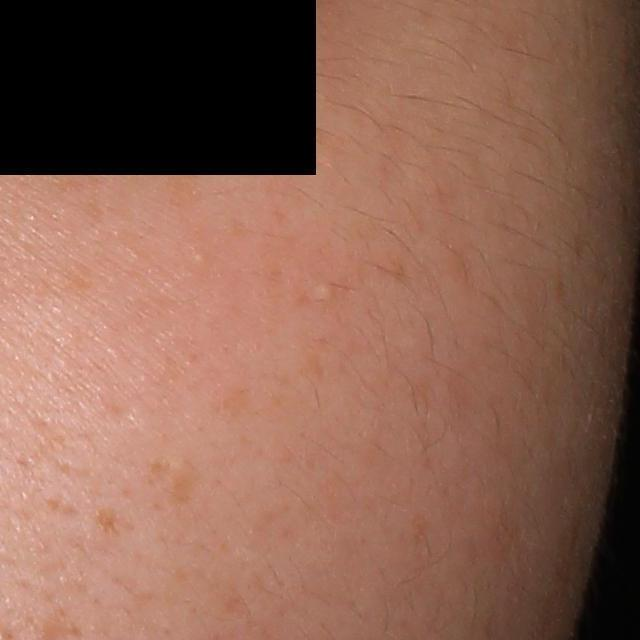melasma: (138, 453, 203, 510), (199, 380, 262, 423), (160, 158, 207, 211), (45, 163, 112, 197)
